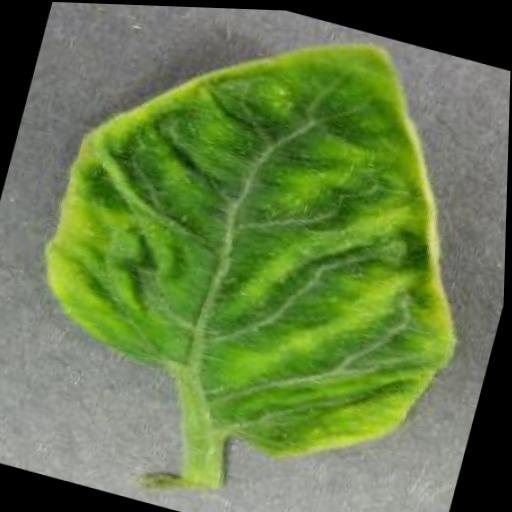Yellow Leaf Curl Virus: (9, 1, 512, 498)
